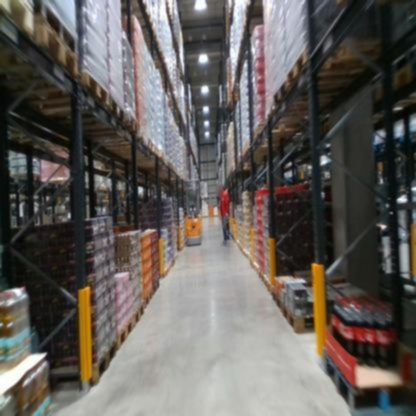pallets: (0, 0, 80, 76), (322, 351, 414, 416), (93, 304, 146, 386), (81, 72, 136, 130), (271, 54, 313, 111), (271, 289, 316, 336), (140, 282, 163, 313), (249, 259, 272, 290)
